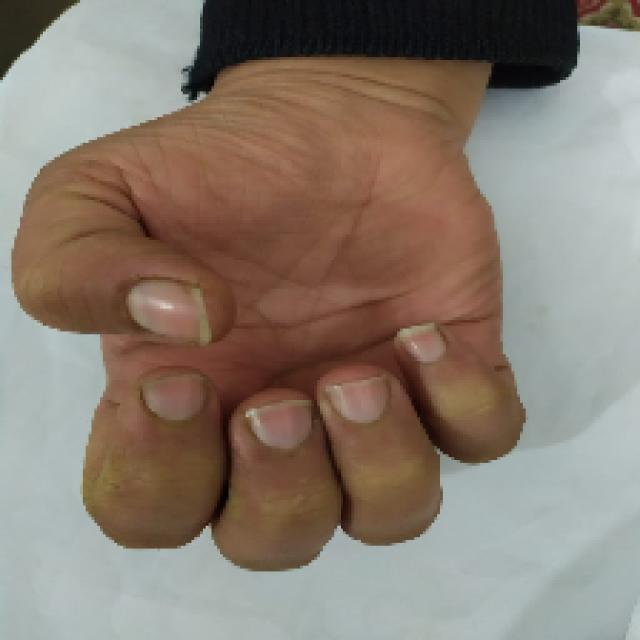Nail: (126, 279, 212, 344), (140, 370, 209, 421), (245, 399, 312, 449), (325, 375, 390, 424), (395, 322, 446, 364)
